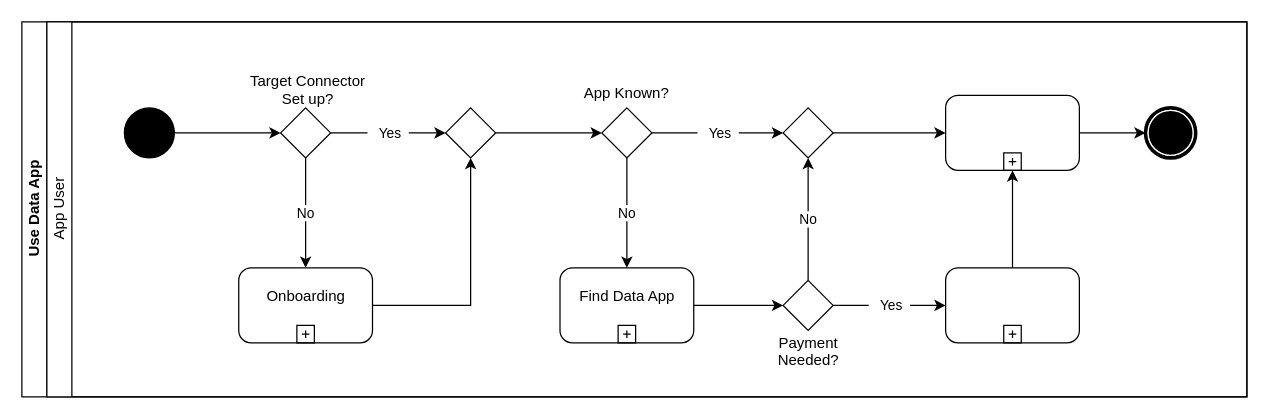
Image size: 1269x419. Some labels were removed from this diagram. The shapes that lost their labels are listed below. From the top down, each one's box as (x1, y1, x2, y2) in pixels, then its label:
(944, 94, 1079, 170): Retrieve Data App
(944, 267, 1079, 343): Data App Payment
